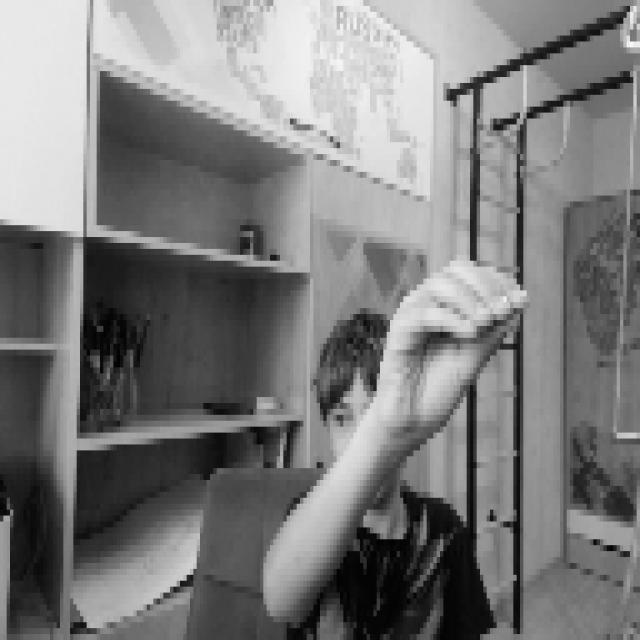left_click: (376, 249, 526, 432)
